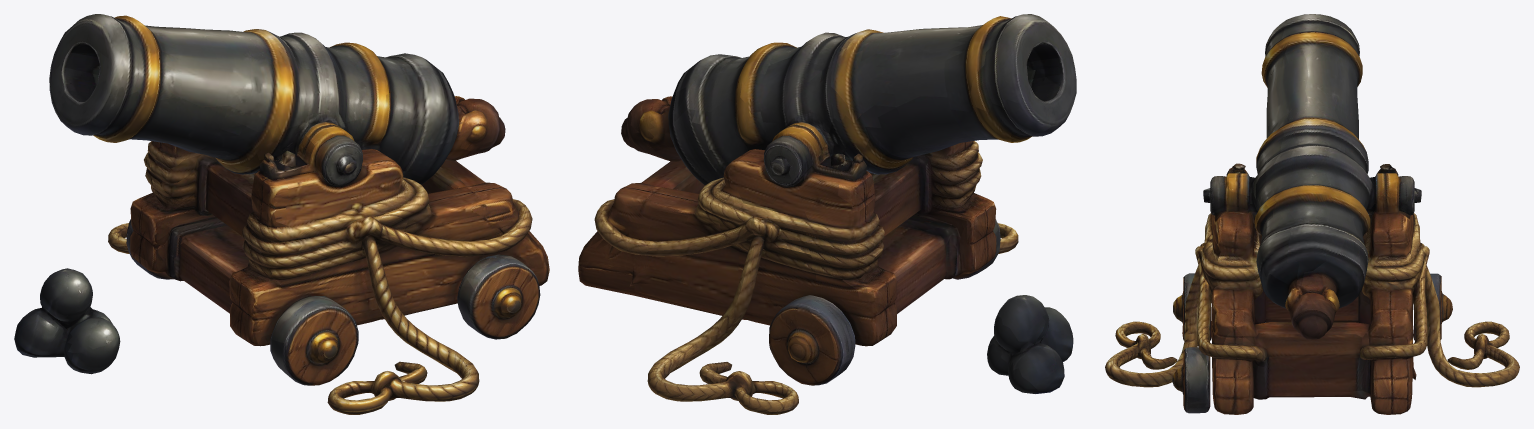
Rendered from field_gun__cannon-on-cart.glb.
3 renders of one model, left to right at view 1: azimuth 30°, elevation 25°; view 2: azimuth 150°, elevation 25°; view 3: azimuth 270°, elevation 25°, orthographic. The views are drawn at different scales.
Bounding box in the file's own units: 1.91 × 1.37 × 1.87.
Materials: 1 (1 with a texture image).
